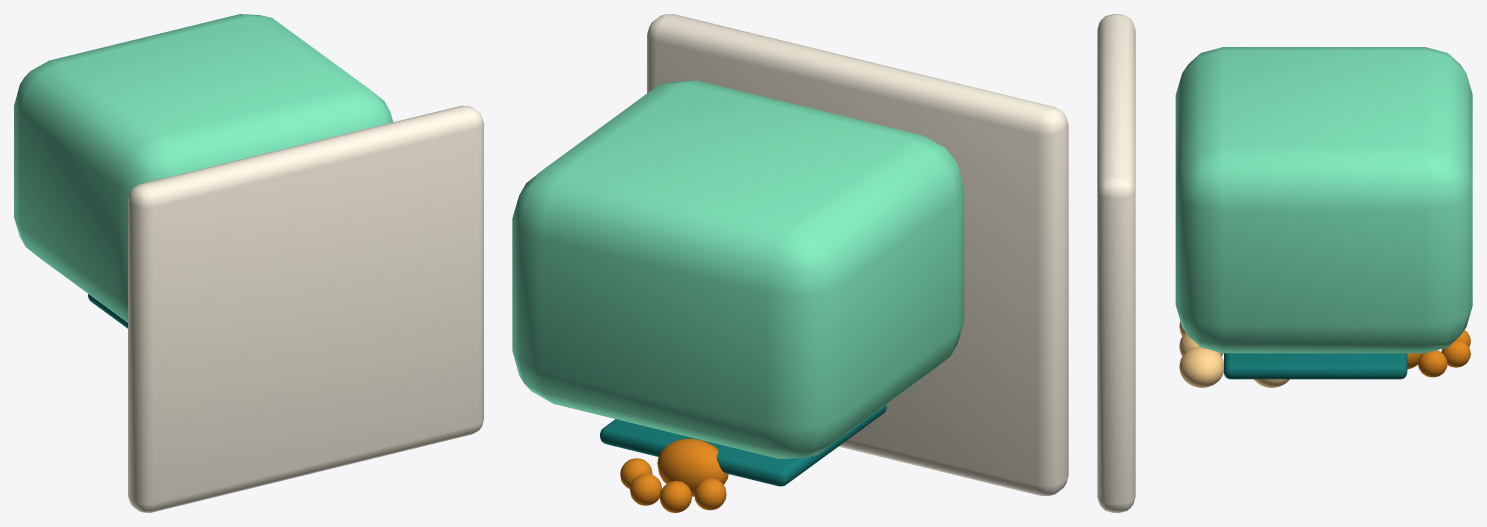
Rendered from KibbleBag_Premium.fbx.
The picture shows the model from 3 angles, left to right: view 1: azimuth 30°, elevation 25°; view 2: azimuth 150°, elevation 25°; view 3: azimuth 270°, elevation 25°; orthographic projection. The views are drawn at different scales.
Parts seen in each view (by area): view 1: KibbleBag_Body; view 2: KibbleBag_Body; view 3: KibbleBag_Body.
Boxes of the visible parts, x1,y1,x2,y2 form: KibbleBag_Body: [14, 14, 483, 512]; KibbleBag_Body: [512, 14, 1068, 512]; KibbleBag_Body: [1097, 14, 1472, 512].
Bounding box in the file's own units: 0.4313 × 0.3836 × 0.3905.
